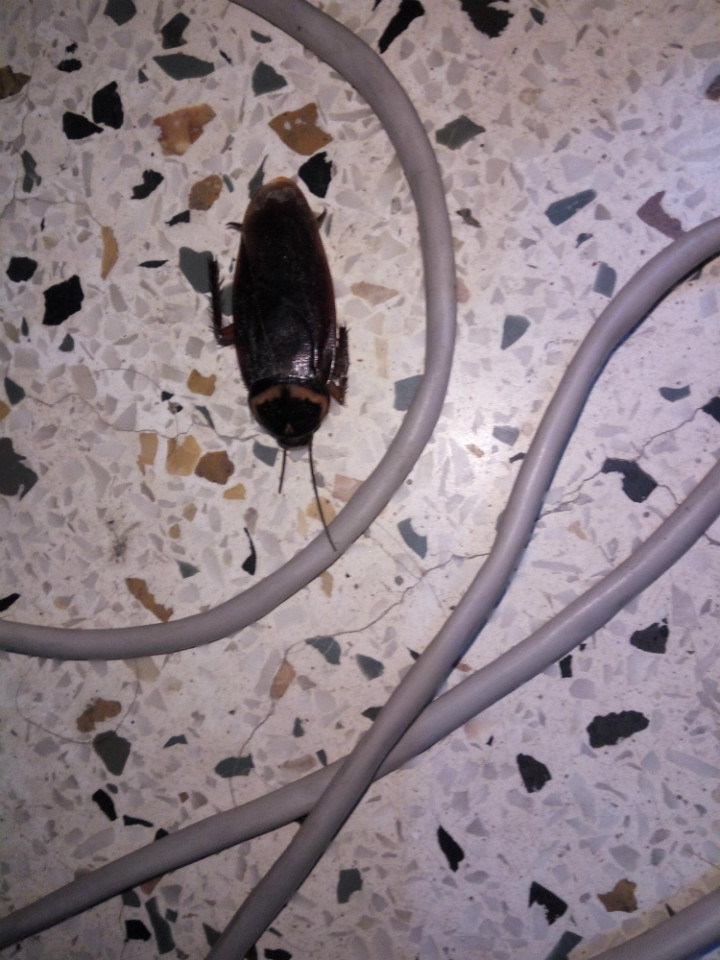cockroach: (115, 97, 422, 585)
